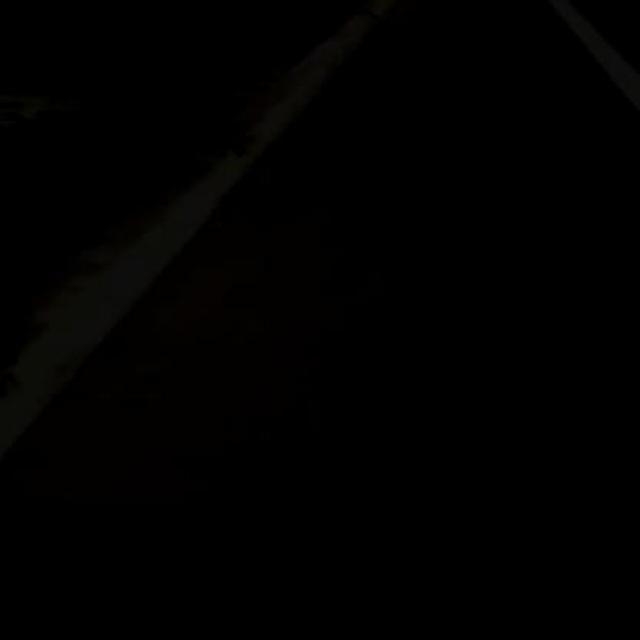Manhole: (415, 25, 457, 41)
